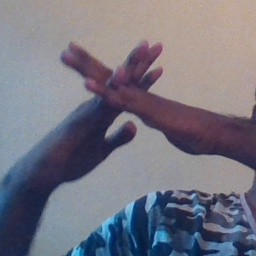W: (49, 25, 177, 160)
